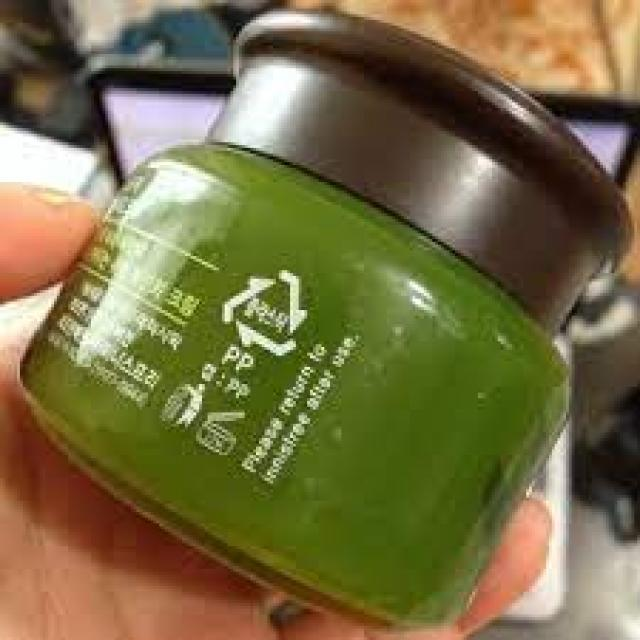Plastic: (215, 264, 313, 356)
